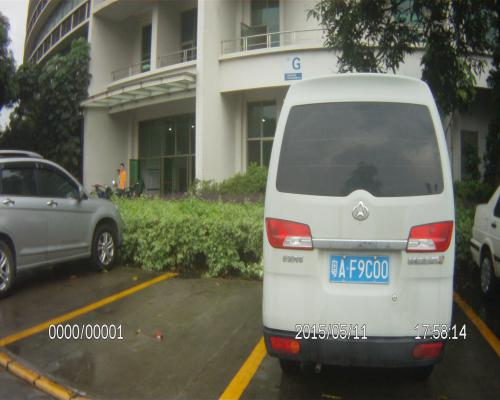Carplate: (323, 245, 394, 295)
